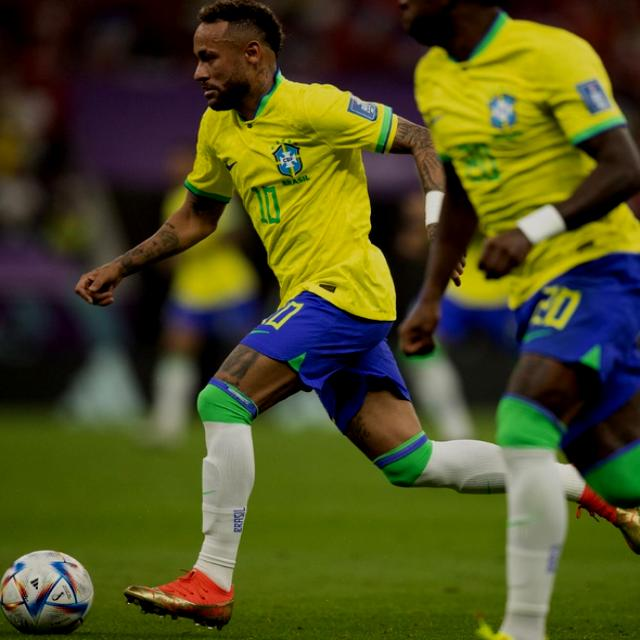neymar: (179, 3, 284, 116)
